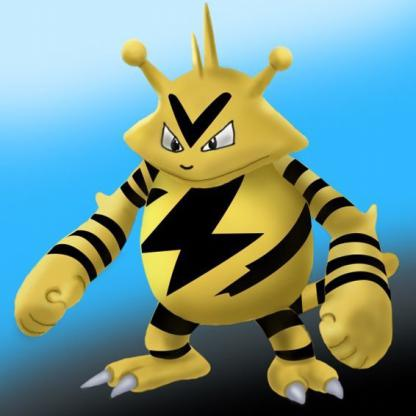Electabuzz: (13, 32, 416, 393)
